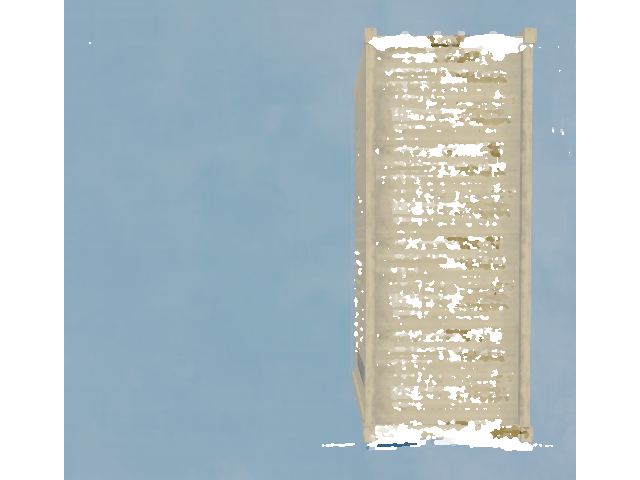container3: (349, 27, 541, 441)
